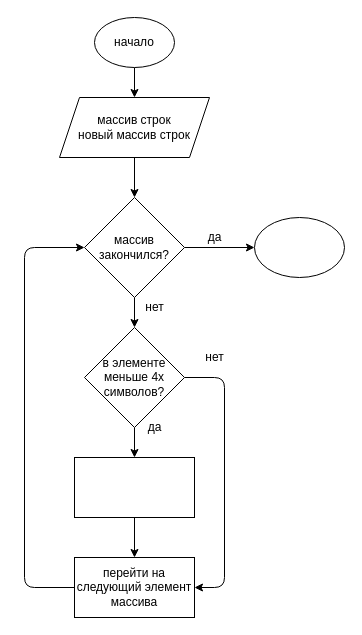
Image size: 362x635. Some labels were removed from this diagram. Here are the shapes that lost their labels. From the top down, the centre of each, then its label:
the point at 299,247: конец
the point at 134,487: записать этот элемент в новый массив
